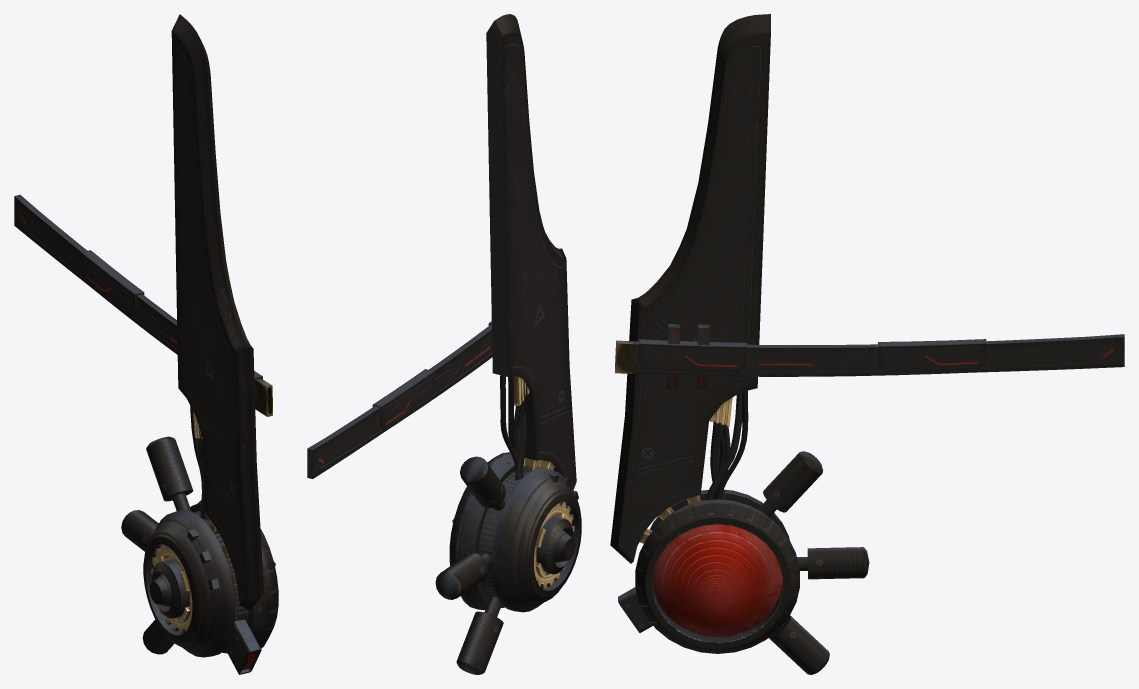
The model's file is Aegis_Engine_R_Ver,1.0.0.fbx.
3 renders of one model, left to right at view 1: azimuth 30°, elevation 25°; view 2: azimuth 150°, elevation 25°; view 3: azimuth 270°, elevation 25°, orthographic. The views are drawn at different scales.
Parts seen in each view (by area): view 1: Engine_R, SAYA_R; view 2: Engine_R, SAYA_R; view 3: Engine_R, SAYA_R, SAYA_Parts_R.
Boxes of the visible parts, box(x1,y1,x2,y2) form: Engine_R: box(121, 14, 278, 674); SAYA_R: box(14, 194, 272, 416); Engine_R: box(435, 14, 581, 674); SAYA_R: box(307, 321, 492, 478); Engine_R: box(610, 14, 869, 674); SAYA_R: box(615, 334, 1124, 376); SAYA_Parts_R: box(666, 324, 709, 389).
Size of the model in its own units: 25.92 by 135 by 95.28.
